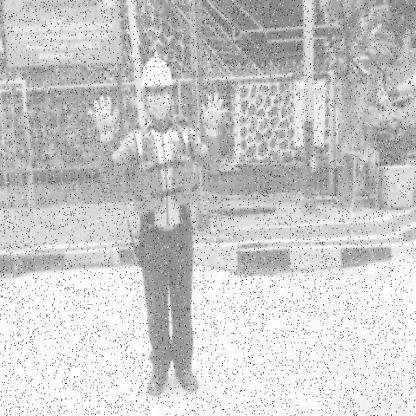boots: (172, 362, 200, 394), (146, 364, 170, 397)
gloves: (86, 94, 121, 143), (200, 93, 229, 138)
goggles: (146, 86, 172, 94)
helmet: (140, 54, 174, 86)
mask: (147, 98, 170, 120)
vest: (134, 142, 202, 218)
